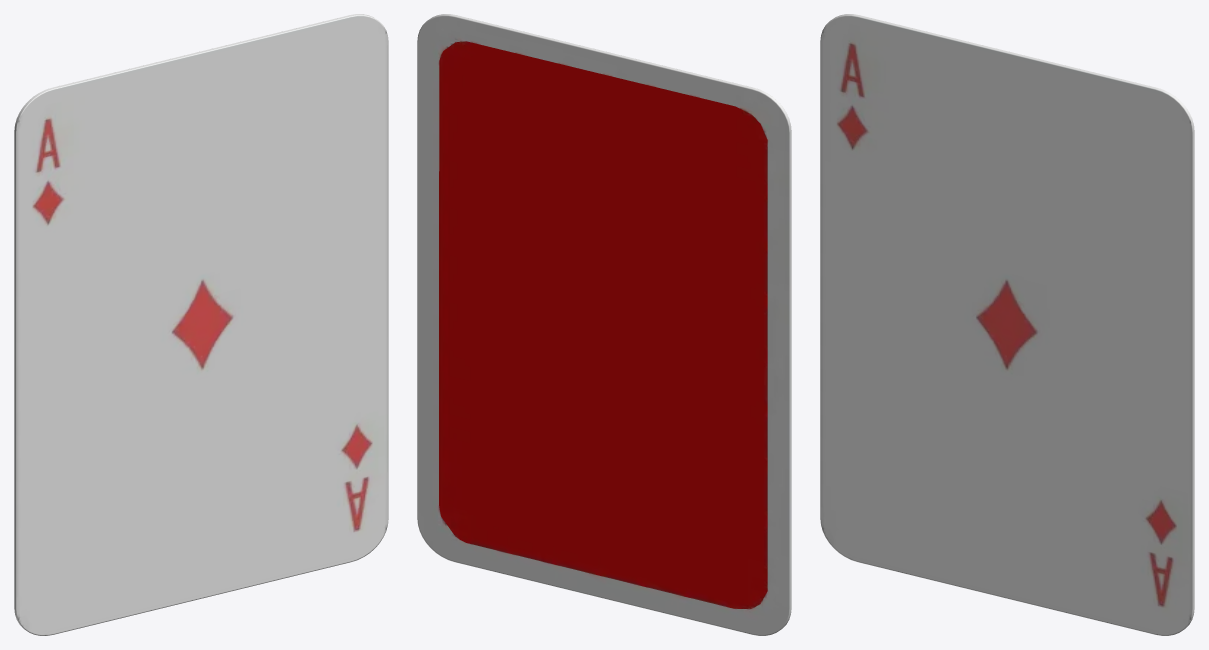
The model's file is diamonds_1-transformed.glb.
3 renders of one model, left to right at view 1: azimuth 30°, elevation 25°; view 2: azimuth 150°, elevation 25°; view 3: azimuth 330°, elevation 25°, orthographic.
Visible parts, largest first — view 1: defaultMaterial.035; view 2: defaultMaterial.035; view 3: defaultMaterial.035.
Boxes of the visible parts, left/top/right/bottom form: defaultMaterial.035: left=14, top=14, right=388, bottom=635; defaultMaterial.035: left=417, top=14, right=791, bottom=635; defaultMaterial.035: left=820, top=14, right=1194, bottom=635.
Bounding box in the file's own units: 0.1408 × 0.1972 × 0.00111.
1 material, 1 textured.
